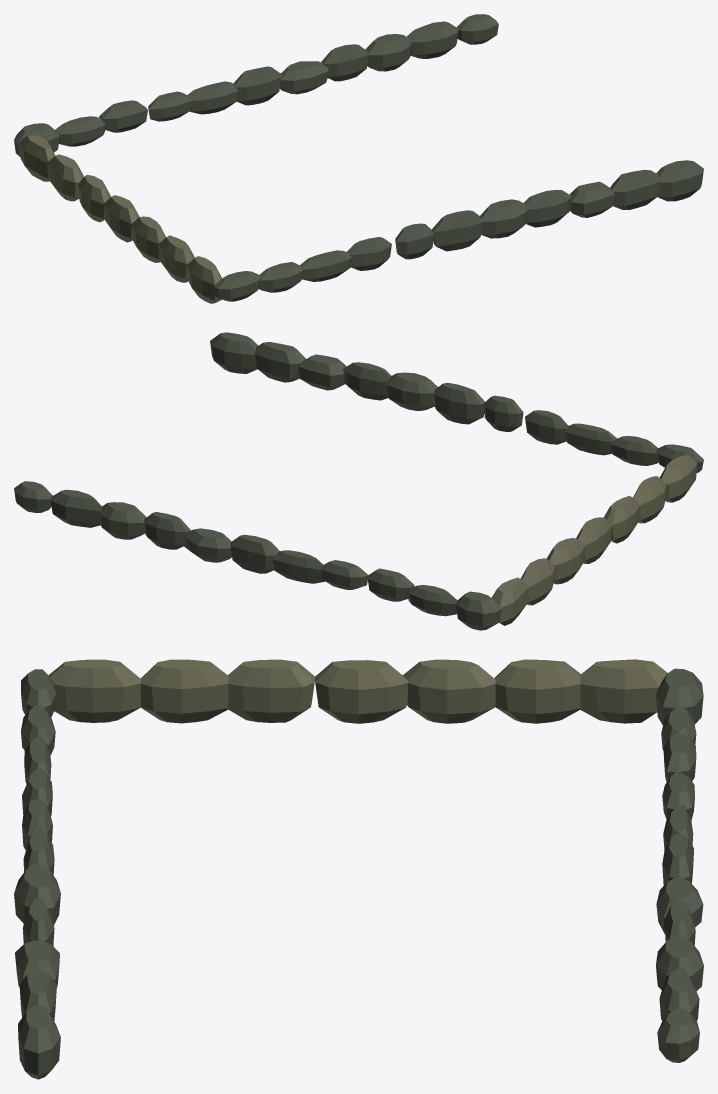
File: coastal_rim.obj
3 views of the same model, one above another, from view 1: azimuth 30°, elevation 25°; view 2: azimuth 150°, elevation 25°; view 3: azimuth 270°, elevation 25° (orthographic). The views are drawn at different scales.
Visible parts, largest first — view 1: coastal_rim; view 2: coastal_rim; view 3: coastal_rim.
Boxes of the visible parts, <box> form: coastal_rim: <box>14,14,703,303</box>; coastal_rim: <box>14,332,703,630</box>; coastal_rim: <box>14,659,703,1079</box>.
Size of the model in its own units: 61.18 by 4.63 by 46.72.
